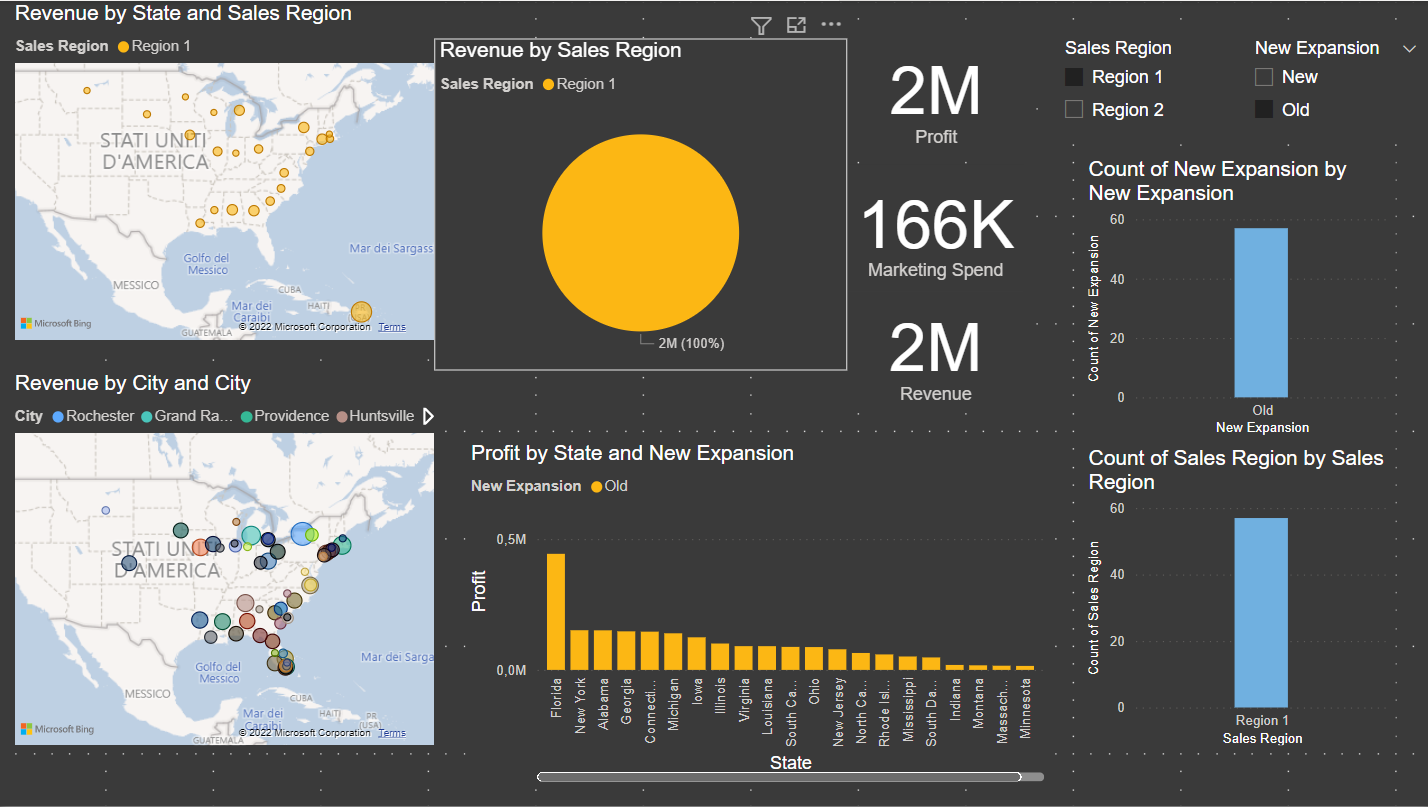

Layout of this report page (visuals, bound fields, positions):
{"tool":"powerbi","page":{"name":"Overwie","canvas":[1280,720],"ordinal":0},"visuals":[{"type":"map","fields":{"Category":["startups-expansion-modified.State"],"Size":["Sum(startups-expansion-modified.Revenue)"],"Series":["startups-expansion-modified.Sales Region"]},"box":[9.7,0,384.4,307.3],"z":0},{"type":"map","fields":{"Size":["Sum(startups-expansion-modified.Revenue)"],"Category":["startups-expansion-modified.City"],"Series":["startups-expansion-modified.City"]},"box":[9.7,330.3,384.4,339.2],"z":1000},{"type":"columnChart","fields":{"Category":["startups-expansion-modified.New Expansion"],"Y":["CountNonNull(startups-expansion-modified.New Expansion)"]},"box":[968.9,139.9,279,253.3],"z":2000},{"type":"pieChart","fields":{"Category":["startups-expansion-modified.Sales Region"],"Y":["Sum(startups-expansion-modified.Revenue)"]},"box":[389.7,33.7,369.3,296.7],"z":3000},{"type":"card","fields":{"Values":["Sum(startups-expansion-modified.Profit)"]},"box":[759,27.5,157.6,112.5],"z":4000},{"type":"card","fields":{"Values":["Sum(startups-expansion-modified.Marketing Spend)"]},"box":[759.1,146.5,157.1,113.6],"z":5000},{"type":"card","fields":{"Values":["Sum(startups-expansion-modified.Revenue)"]},"box":[759.1,260.1,157.1,106.5],"z":6000},{"type":"clusteredColumnChart","fields":{"Category":["startups-expansion-modified.State"],"Y":["Sum(startups-expansion-modified.Profit)"],"Series":["startups-expansion-modified.New Expansion"]},"box":[417.3,393.3,522,309],"z":7000},{"type":"slicer","fields":{"Values":["startups-expansion-modified.Sales Region"]},"box":[939.6,27.5,170,90.3],"z":8000},{"type":"slicer","fields":{"Values":["startups-expansion-modified.New Expansion"]},"box":[1109.7,27.5,170,90.3],"z":9000},{"type":"columnChart","fields":{"Category":["startups-expansion-modified.Sales Region"],"Y":["CountNonNull(startups-expansion-modified.Sales Region)"]},"box":[968.9,397.6,279,271.9],"z":10000}]}

Visuals, with their boxes in screenshot pixels (x1, y1, x2, y2), scaled from the page's 1280x720 canvas onto the 1428x807 screenshot:
map - startups-expansion-modified.State x Sum(startups-expansion-modified.Revenue): {"x1": 11, "y1": 0, "x2": 440, "y2": 344}
map - Sum(startups-expansion-modified.Revenue) x startups-expansion-modified.City: {"x1": 11, "y1": 370, "x2": 440, "y2": 750}
columnChart - startups-expansion-modified.New Expansion x CountNonNull(startups-expansion-modified.New Expansion): {"x1": 1081, "y1": 157, "x2": 1392, "y2": 441}
pieChart - startups-expansion-modified.Sales Region x Sum(startups-expansion-modified.Revenue): {"x1": 435, "y1": 38, "x2": 847, "y2": 370}
card - Sum(startups-expansion-modified.Profit): {"x1": 847, "y1": 31, "x2": 1023, "y2": 157}
card - Sum(startups-expansion-modified.Marketing Spend): {"x1": 847, "y1": 164, "x2": 1022, "y2": 292}
card - Sum(startups-expansion-modified.Revenue): {"x1": 847, "y1": 292, "x2": 1022, "y2": 411}
clusteredColumnChart - startups-expansion-modified.State x Sum(startups-expansion-modified.Profit): {"x1": 466, "y1": 441, "x2": 1048, "y2": 787}
slicer - startups-expansion-modified.Sales Region: {"x1": 1048, "y1": 31, "x2": 1238, "y2": 132}
slicer - startups-expansion-modified.New Expansion: {"x1": 1238, "y1": 31, "x2": 1427, "y2": 132}
columnChart - startups-expansion-modified.Sales Region x CountNonNull(startups-expansion-modified.Sales Region): {"x1": 1081, "y1": 446, "x2": 1392, "y2": 750}
